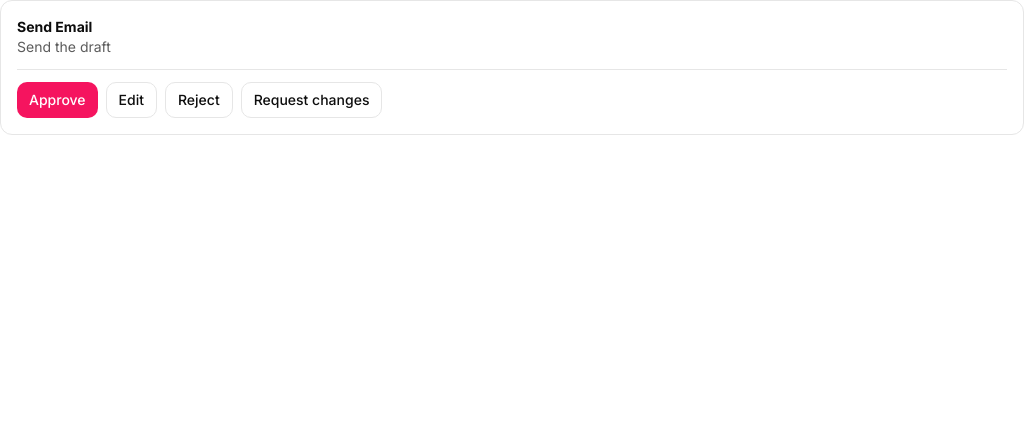
Test case: ApprovalCard › keeps server-held fields out of the edit payload
Later steps or results of the test are not shown.
Click the button "Edit": [131, 100] box [106, 82, 157, 118]
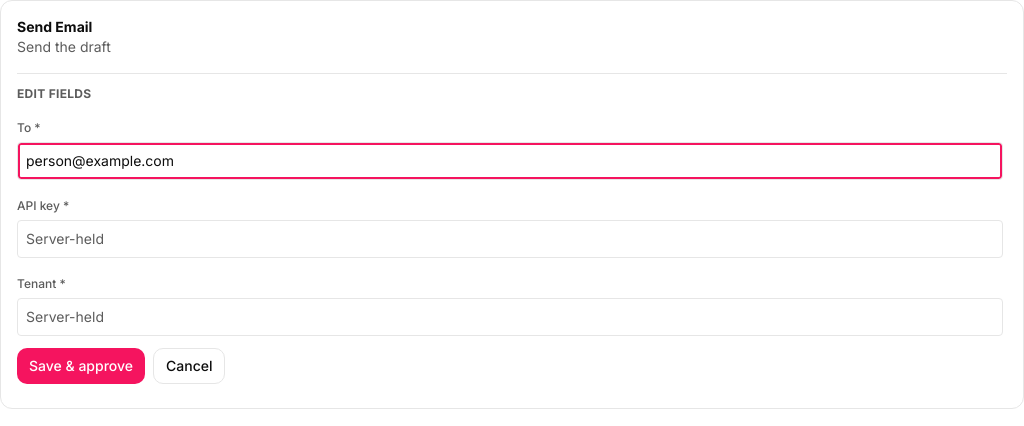
Expected: the field labelled "API key" is disabled, [17, 220, 1003, 258]
Expected: the field labelled "API key" holds "Server-held", [17, 220, 1003, 258]
Expected: the field labelled "Tenant" is disabled, [17, 298, 1003, 336]
